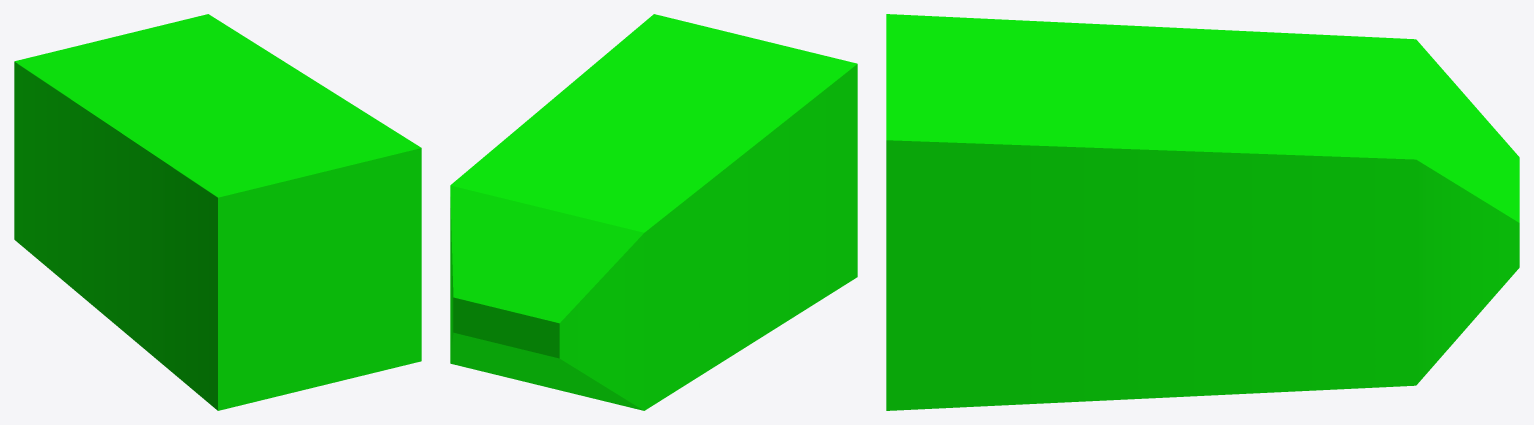
Rendered from SM_KitchenTool_04_Collider.fbx.
3 views of the same model, side by side, from view 1: azimuth 30°, elevation 25°; view 2: azimuth 150°, elevation 25°; view 3: azimuth 270°, elevation 25° (orthographic). The views are drawn at different scales.
Parts seen in each view (by area): view 1: SM_KitchenTool_04_Collider; view 2: SM_KitchenTool_04_Collider; view 3: SM_KitchenTool_04_Collider.
Boxes of the visible parts, x1,y1,x2,y2 form: SM_KitchenTool_04_Collider: [14, 14, 421, 410]; SM_KitchenTool_04_Collider: [450, 14, 857, 410]; SM_KitchenTool_04_Collider: [886, 14, 1519, 410].
Size of the model in its own units: 13.84 by 13.84 by 29.34.
